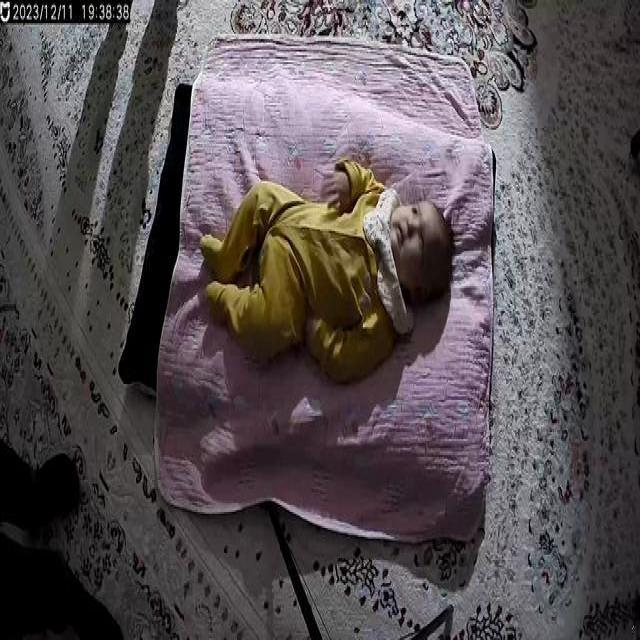baby: (198, 157, 458, 385)
